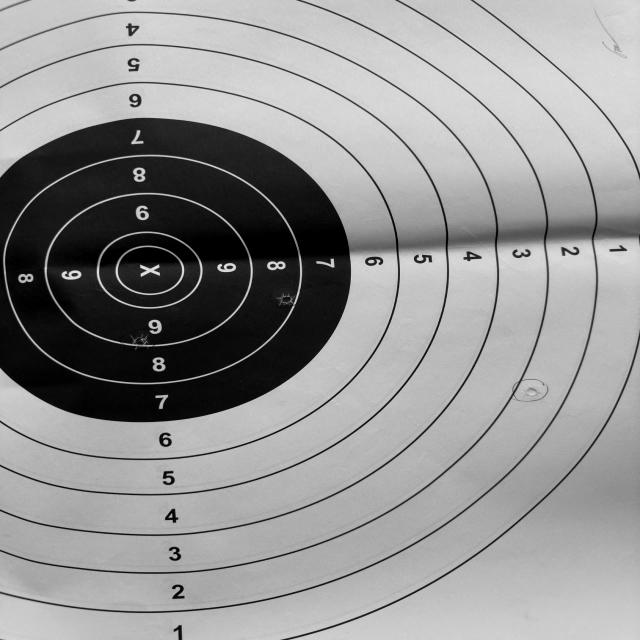bullet: (523, 385, 541, 397), (276, 294, 293, 305), (132, 336, 148, 346)
target: (0, 0, 640, 640)
